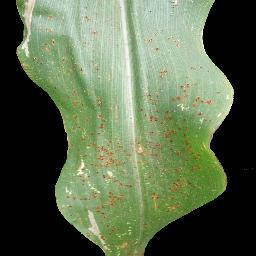Corn_Common_Rust: (52, 132, 233, 256), (12, 0, 105, 132), (140, 33, 234, 133), (166, 0, 182, 13)
